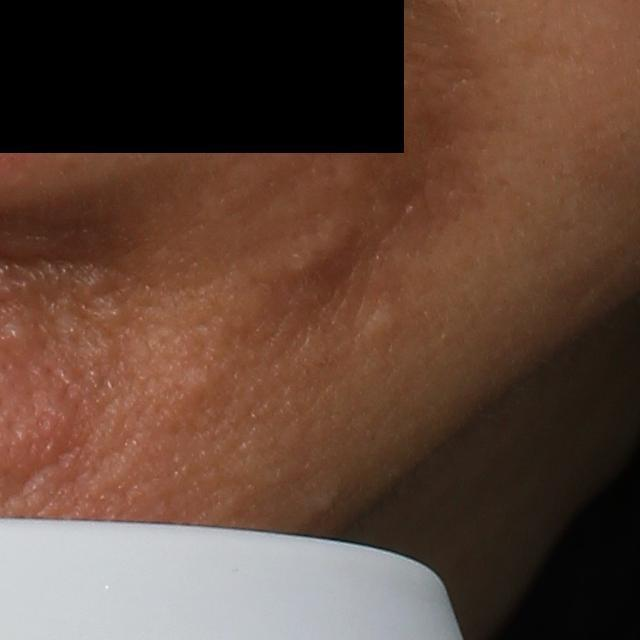hypertrophic_scar: (280, 213, 368, 282), (66, 267, 116, 307), (361, 299, 400, 348), (94, 297, 136, 336)
